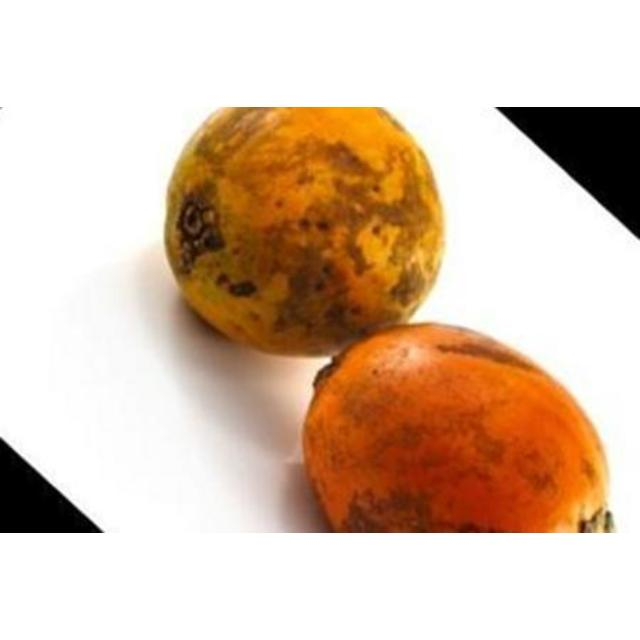good: (164, 107, 447, 360)
